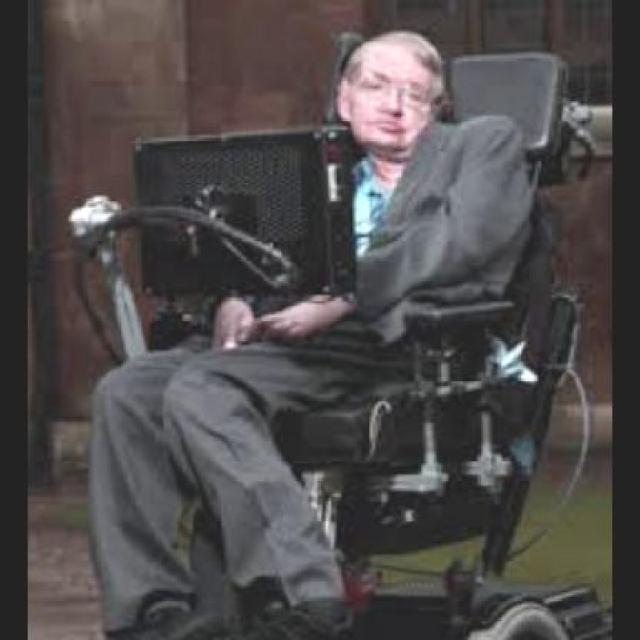wheelchairs: (117, 17, 640, 640)
